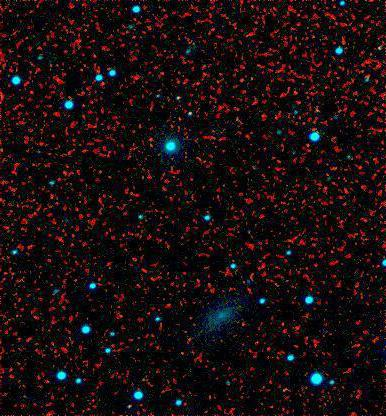star: (268, 308, 298, 338)
